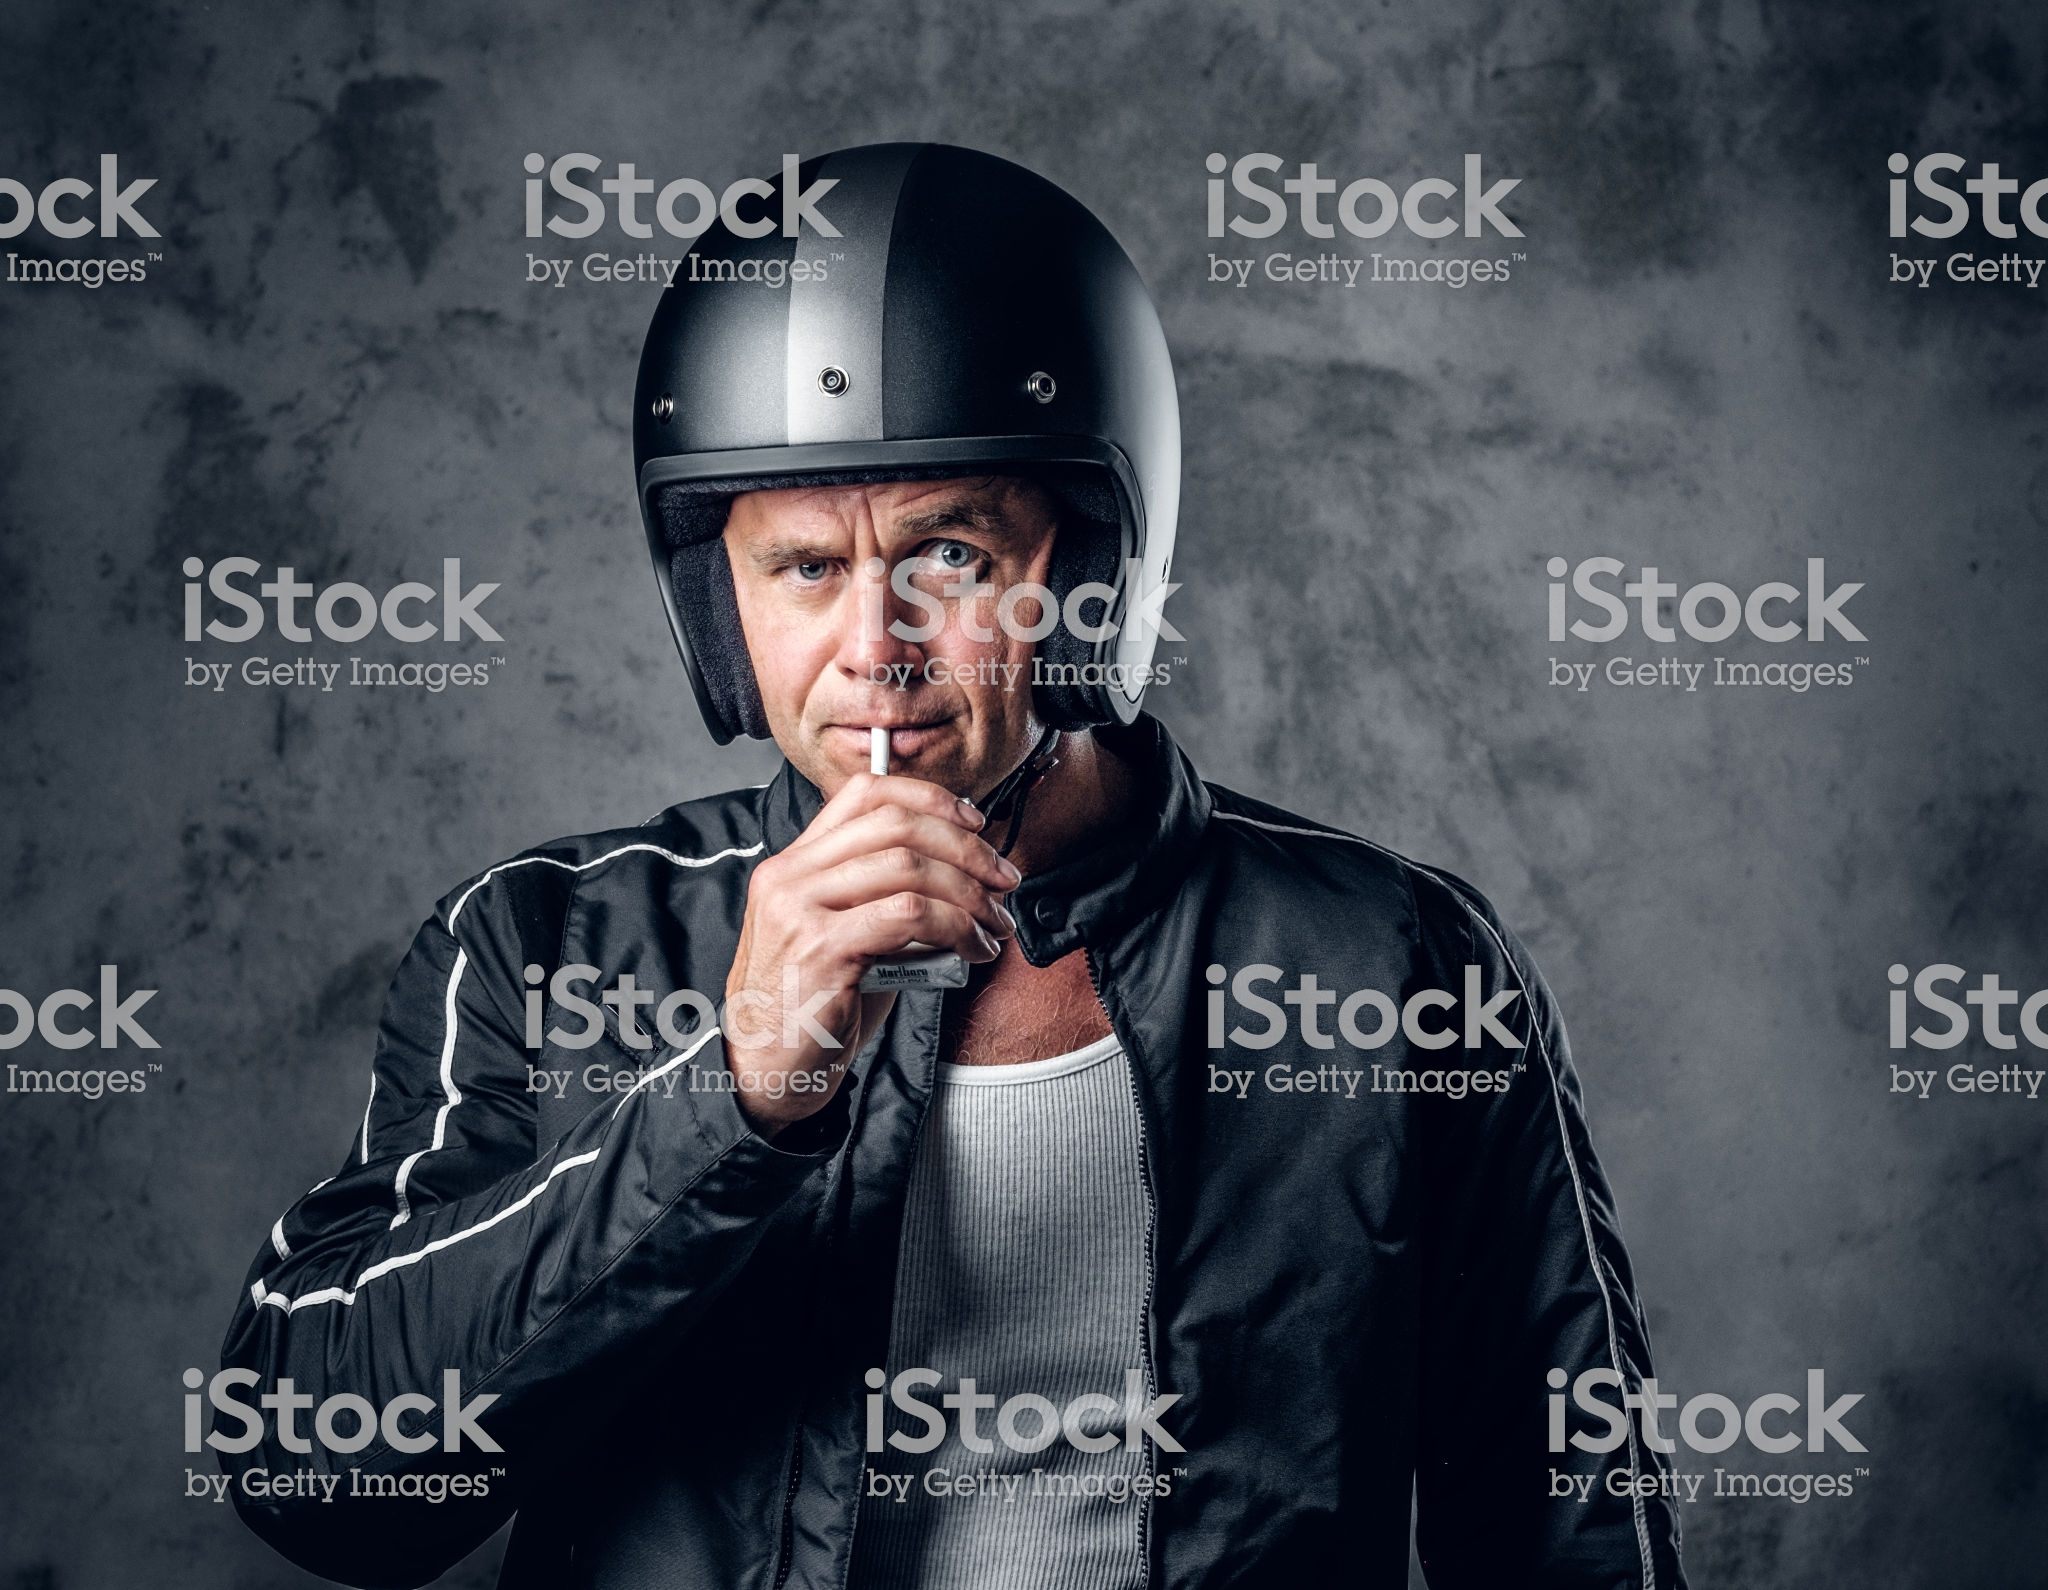helmet: (633, 140, 1175, 737)
